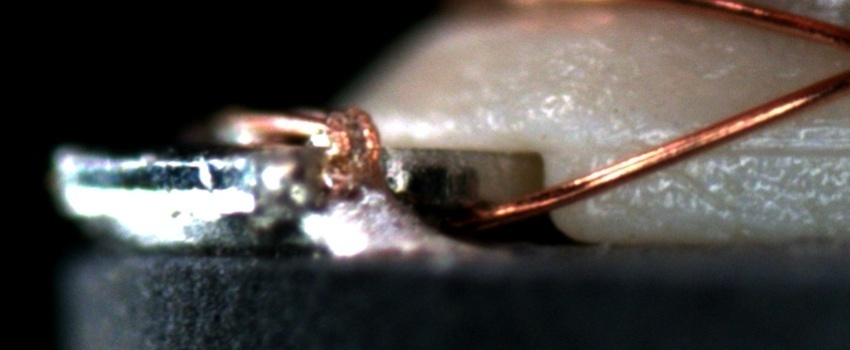DL: (593, 112, 849, 169)
TE: (212, 99, 379, 155)
